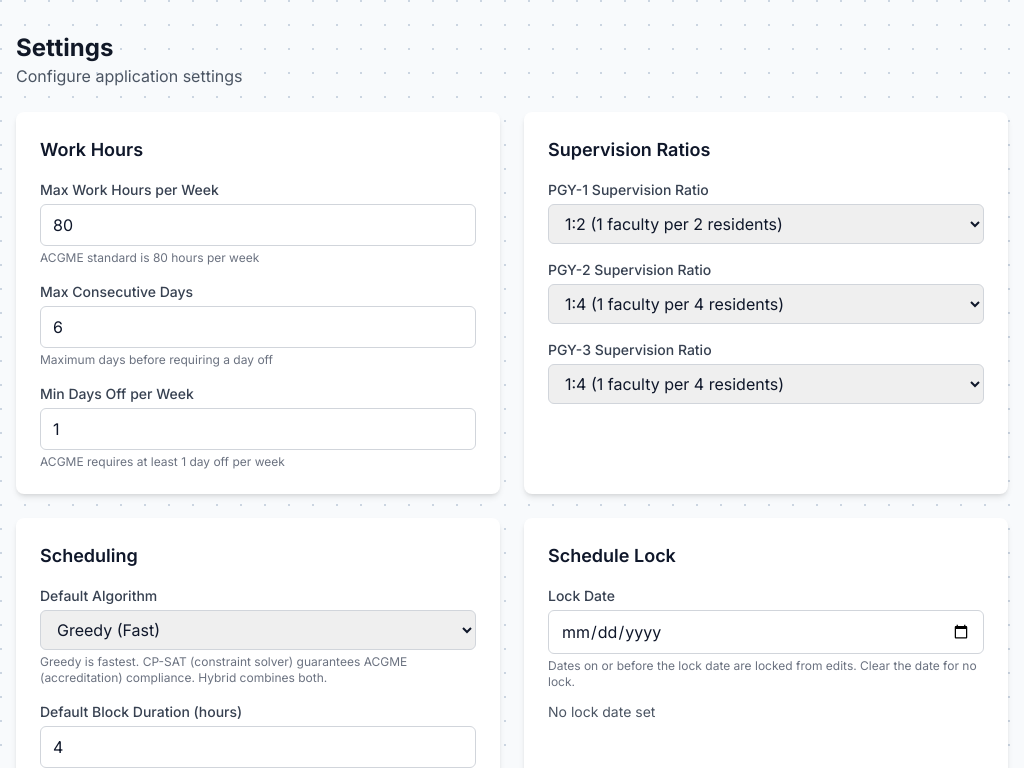
Test: SettingsPage › Error States › should display save error message when save fails
This screenshot has width=1024, height=768.
Expected: the text "Max Work Hours per Week" is shown, [40, 181, 219, 198]
Replace the text in the number field below "Max Work Hours per Week" with "75" at (258, 225), box [40, 204, 476, 246]
(page scrolled)
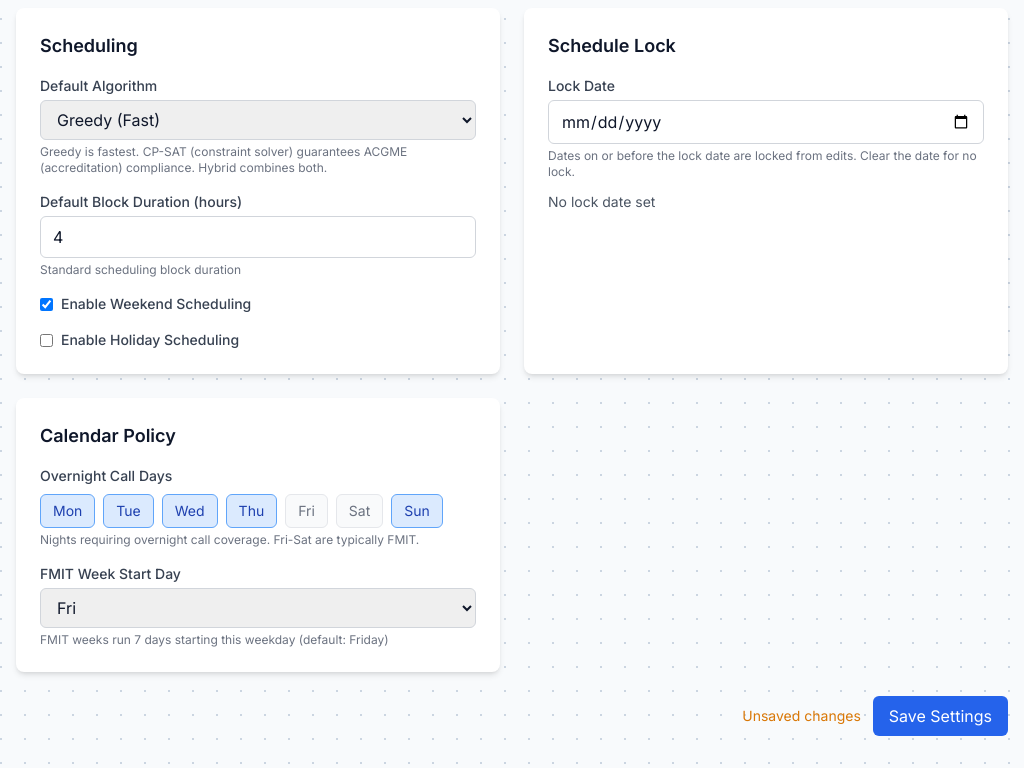
Click the button "Save Settings" at (940, 716), box [873, 696, 1008, 736]
(page scrolled)
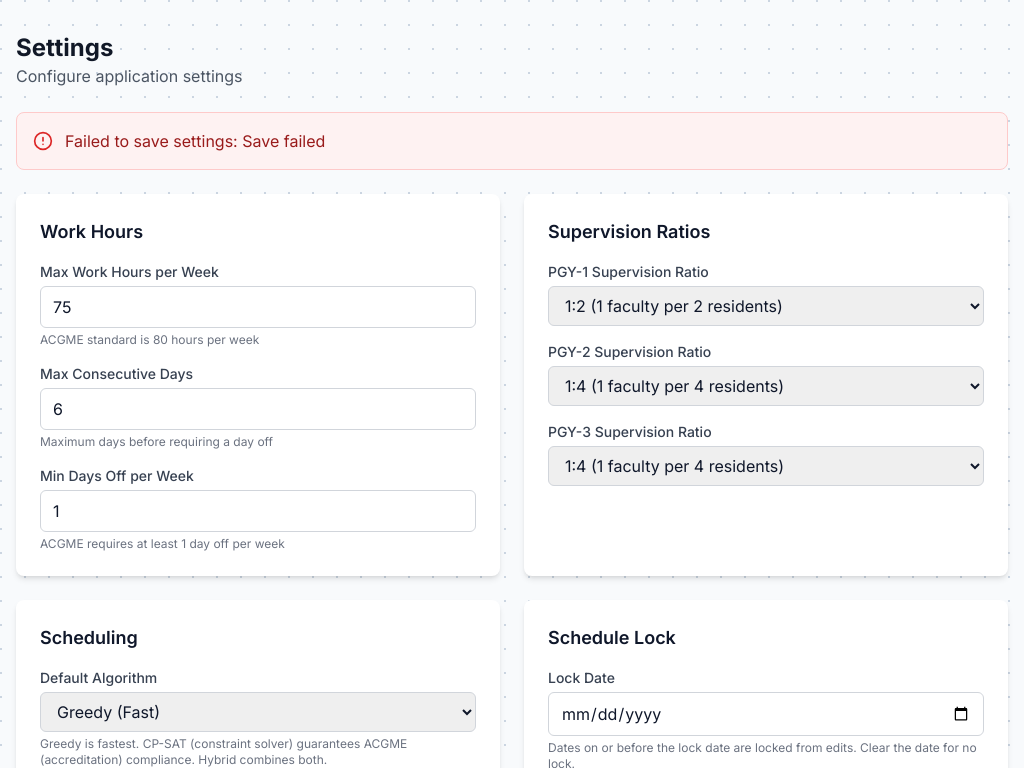
Expected: the text "Failed to save settings: Save failed" is shown, [65, 129, 325, 153]
